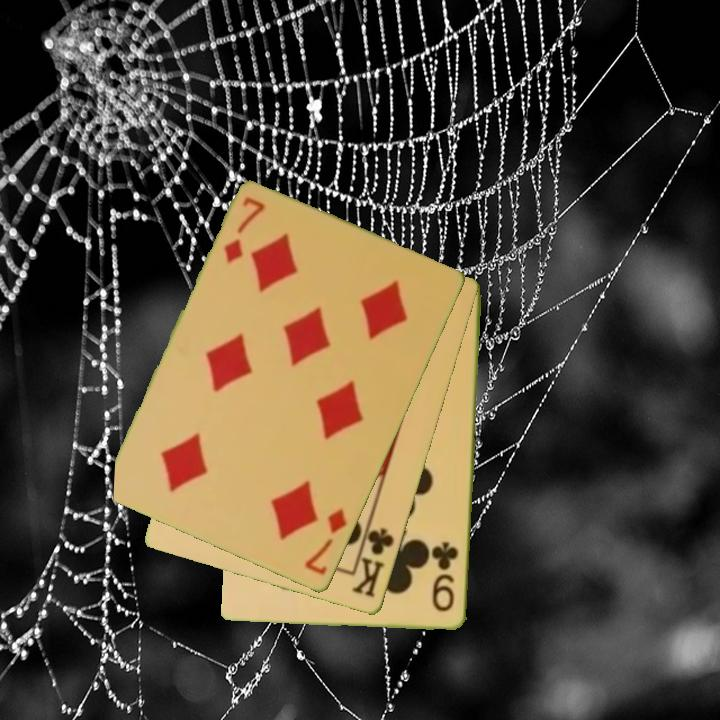7d: (301, 505, 350, 578), (220, 194, 269, 267)
9c: (430, 538, 462, 615)
Kc: (349, 517, 397, 601)
